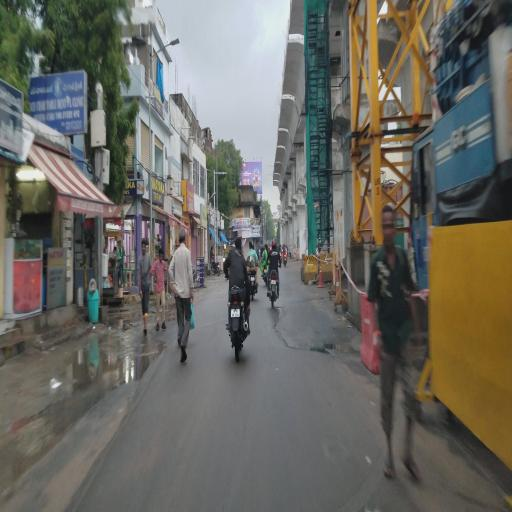street_light_0: (153, 28, 192, 58)
